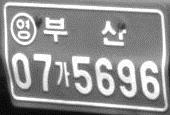0: (10, 52, 33, 90)
5: (70, 54, 93, 94)
6: (139, 59, 160, 100), (94, 57, 116, 96)
7: (32, 52, 53, 93)
9: (117, 58, 137, 99)
가: (53, 61, 72, 87)
부산_D: (43, 15, 128, 48)
영: (8, 11, 37, 46)
